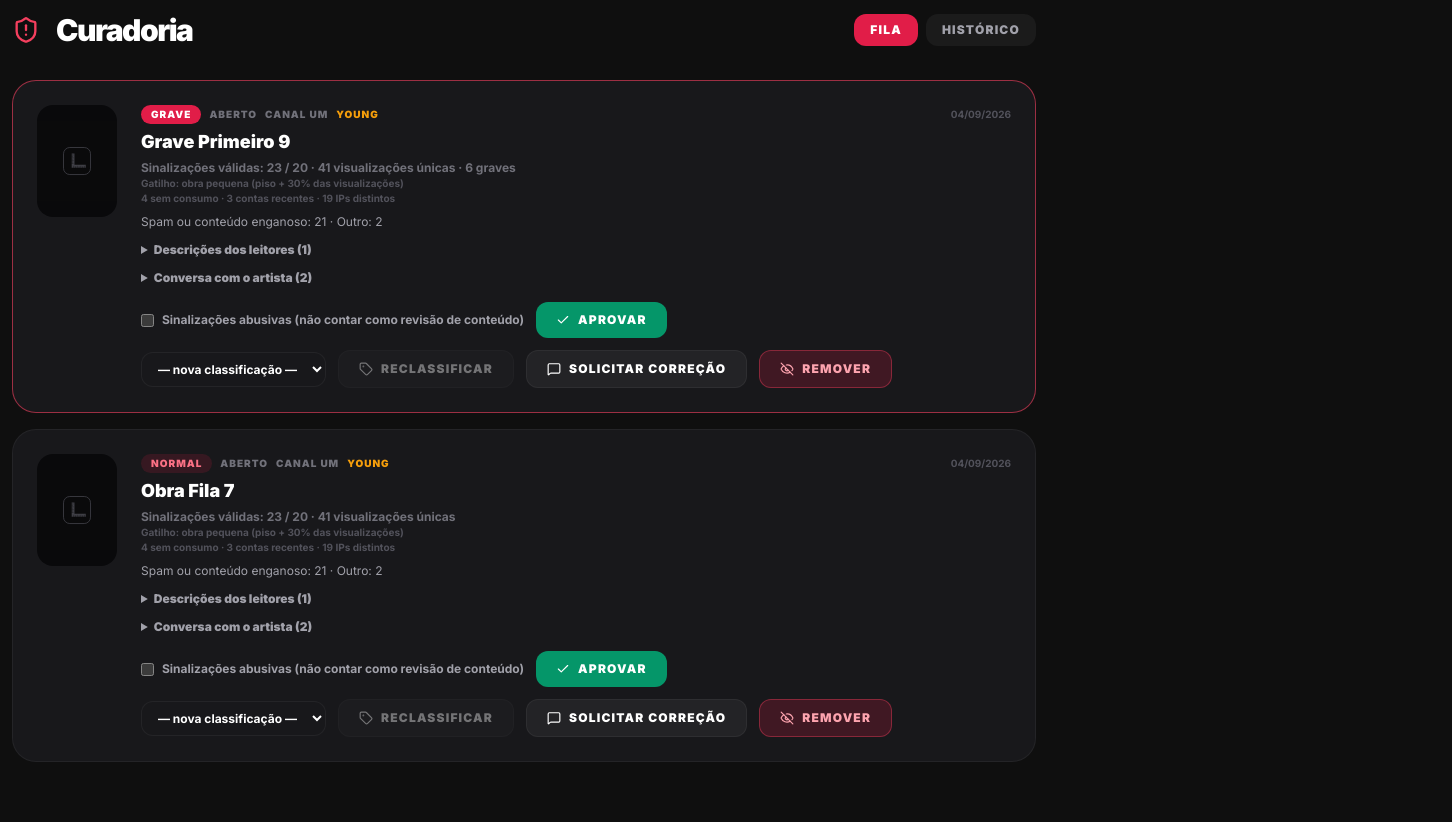
Test: CuradoriaPanel — 409 e recarga da fila › erro sem 409 (falha ao aplicar a decisão) também recarrega: remover/reclassificar podem ter devolvido a reivindicação
Select "Kids" in the dropdown named "Nova classificação" below "Obra Fila 7" at (234, 718), box [141,700,326,736]
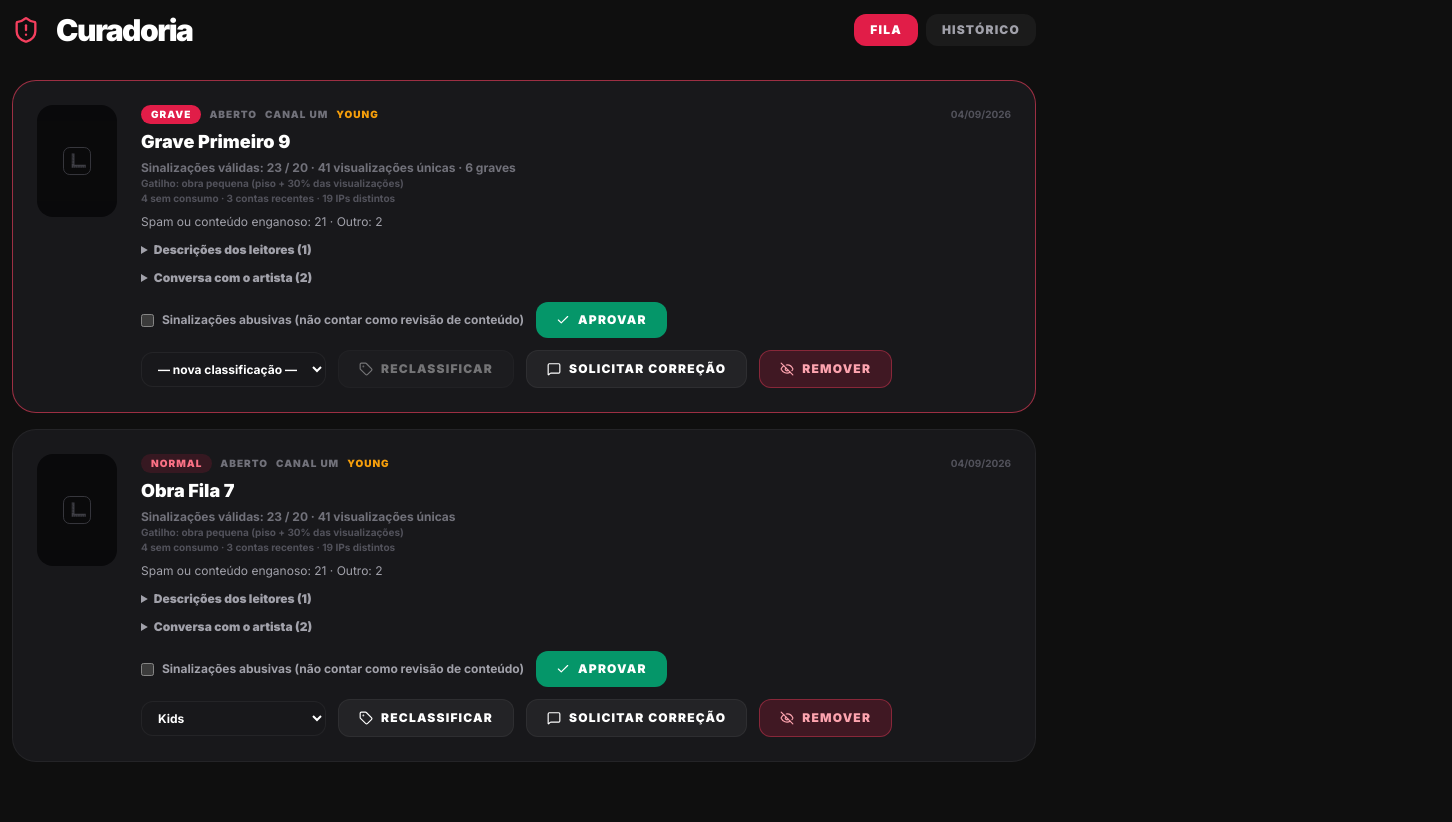
Click the button "Reclassificar" below "Obra Fila 7" at (426, 718), box [338,699,514,737]
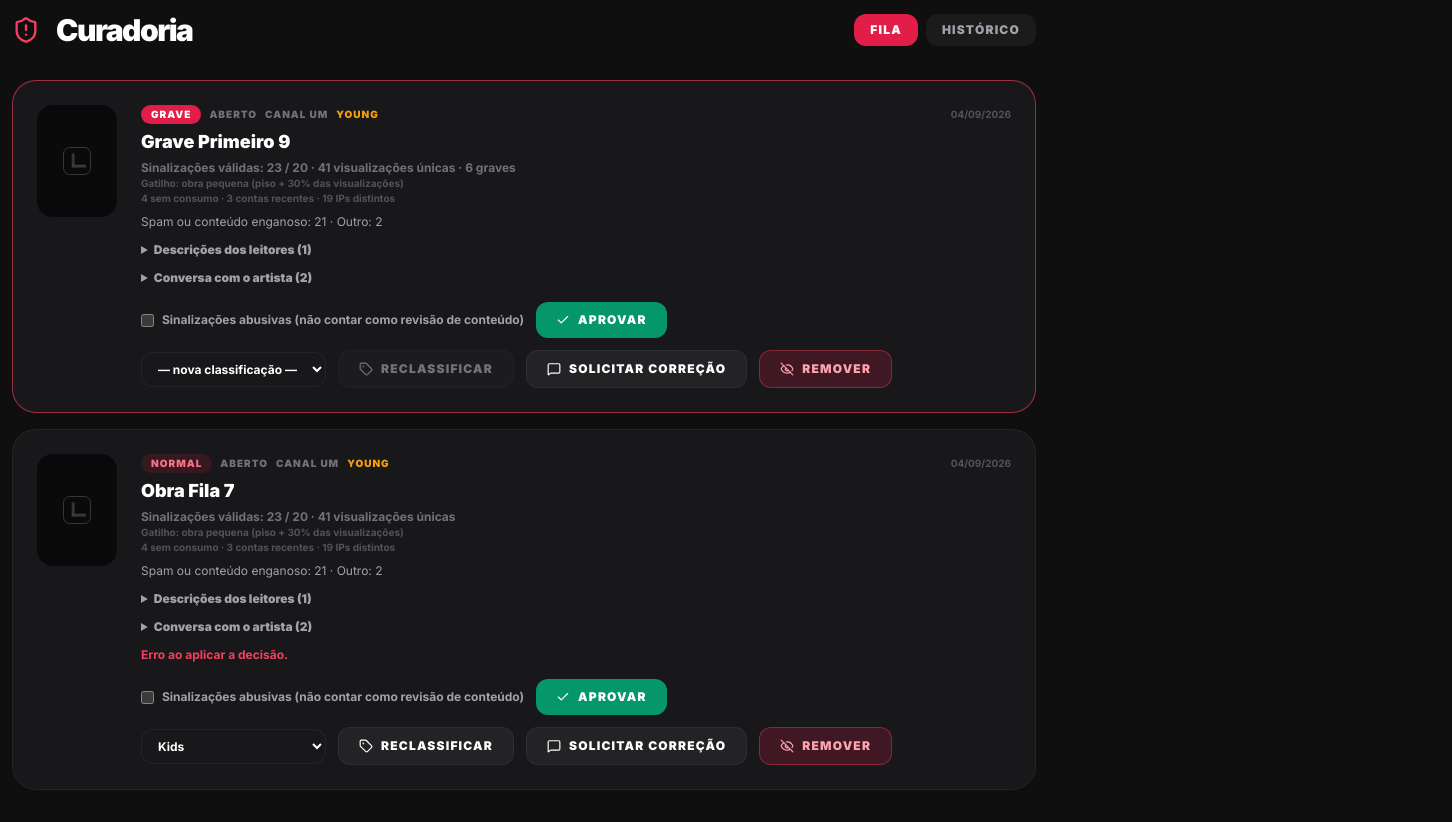
Now the text "Erro ao aplicar a decisão." is shown, box [141,647,288,662]
